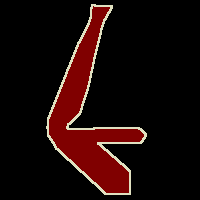tie: (47, 4, 146, 194)
